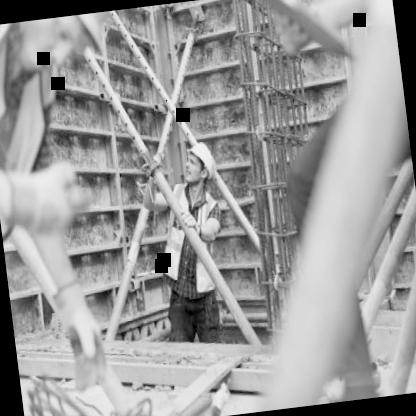helmet: (9, 11, 122, 78), (180, 136, 218, 190)
